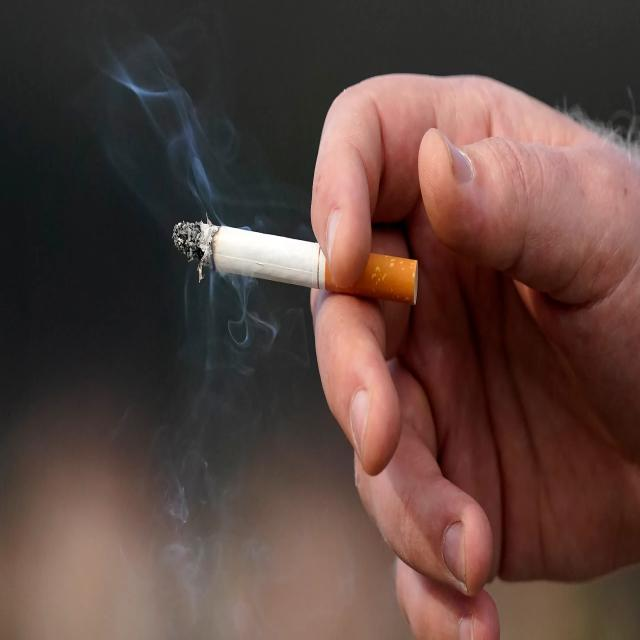Cigarette: (173, 222, 417, 304)
Hand: (307, 68, 637, 639)
